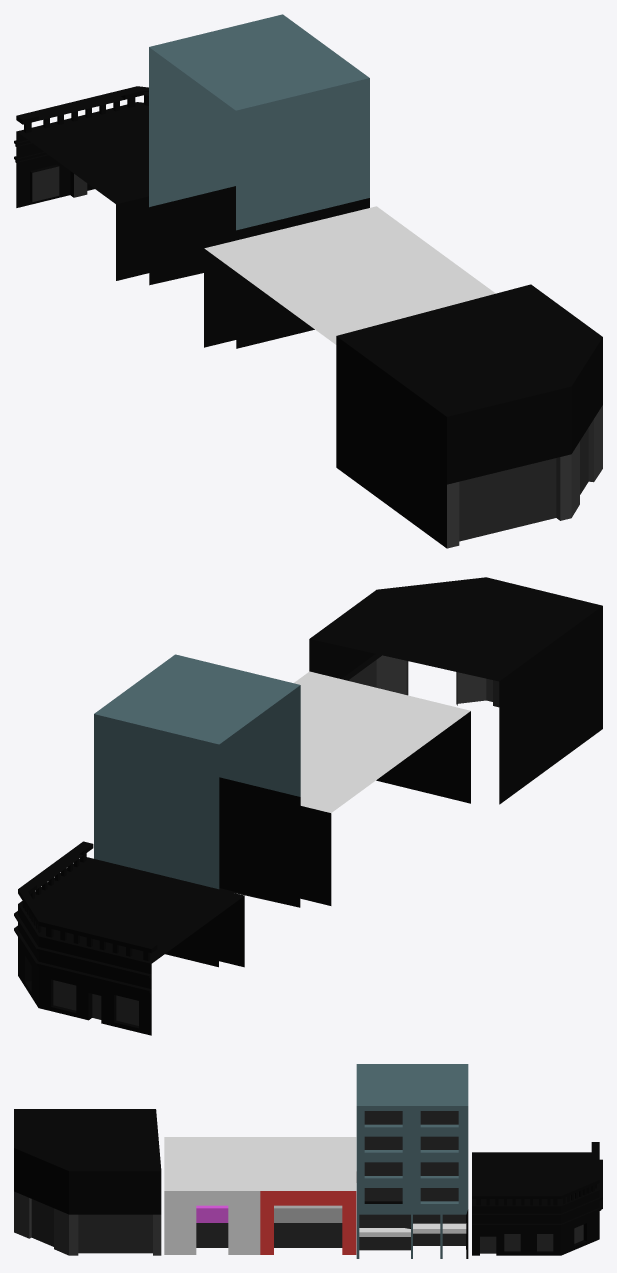
Rendered from Edificio-6-Izquierda.fbx.
3 views of the same model, one above another, from view 1: azimuth 30°, elevation 25°; view 2: azimuth 150°, elevation 25°; view 3: azimuth 270°, elevation 25° (orthographic). The views are drawn at different scales.
Parts seen in each view (by area): view 1: Plane4; view 2: Plane4; view 3: Plane4.
Part boxes in pixels (bbox=[...]): Plane4: bbox=[14, 14, 602, 548]; Plane4: bbox=[14, 577, 602, 1035]; Plane4: bbox=[14, 1064, 602, 1258].
Bounding box in the file's own units: 2138 × 2375 × 8291.
